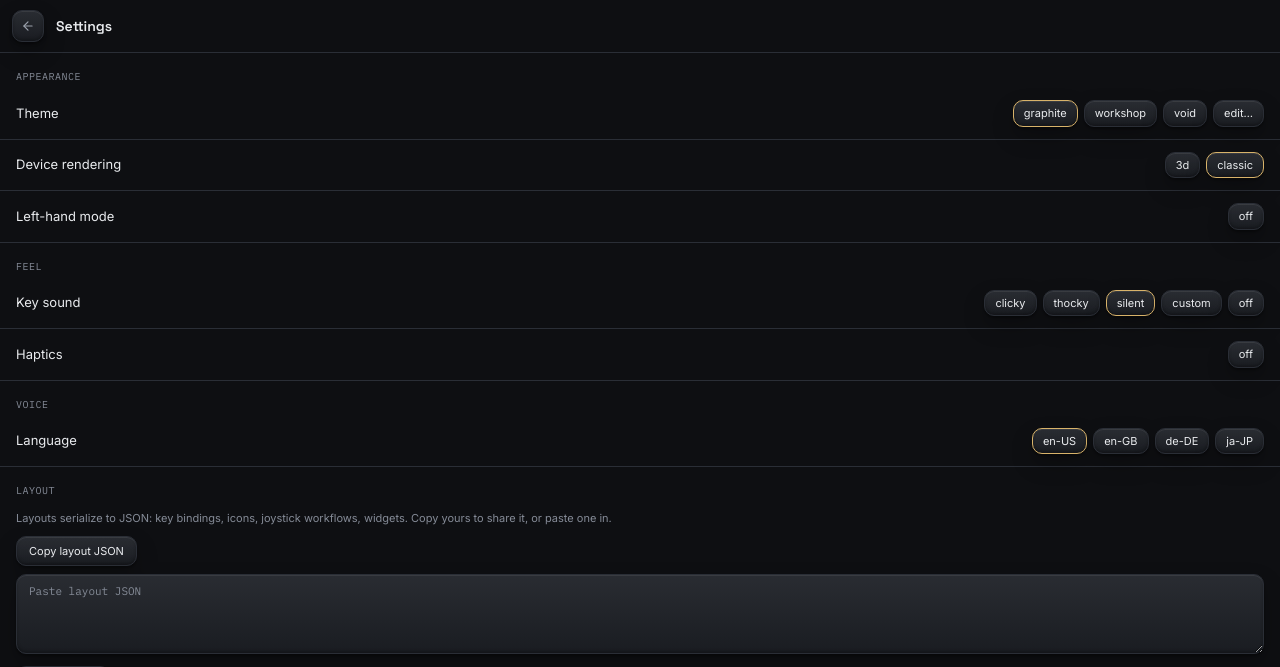
Test case: screens › SettingsScreen reveals the bring-your-own-switch section
The width and height of the screenshot is (1280, 667).
Click the button "custom" at (1192, 303), box x1=1161 y1=290 x2=1222 y2=316
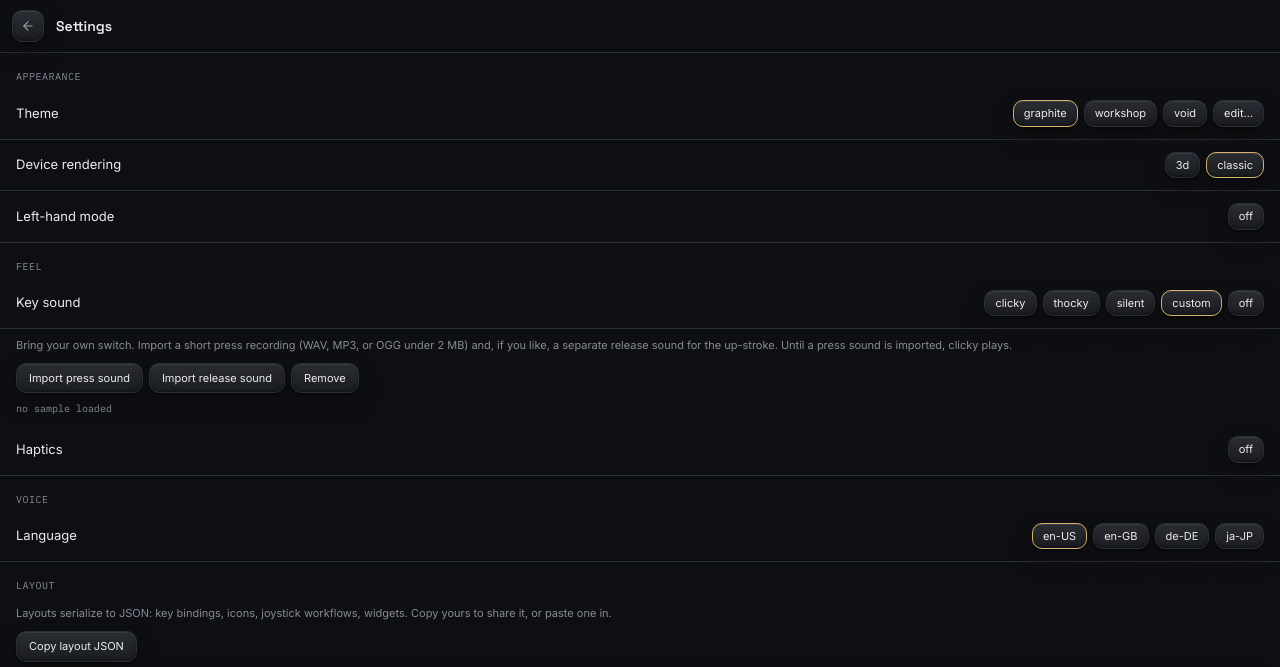
Result: the button "Import press sound" is shown at x1=16 y1=363 x2=143 y2=393
Result: the button "Import release sound" is shown at x1=149 y1=363 x2=285 y2=393
Result: the text "no sample loaded" is shown at x1=16 y1=402 x2=112 y2=415
